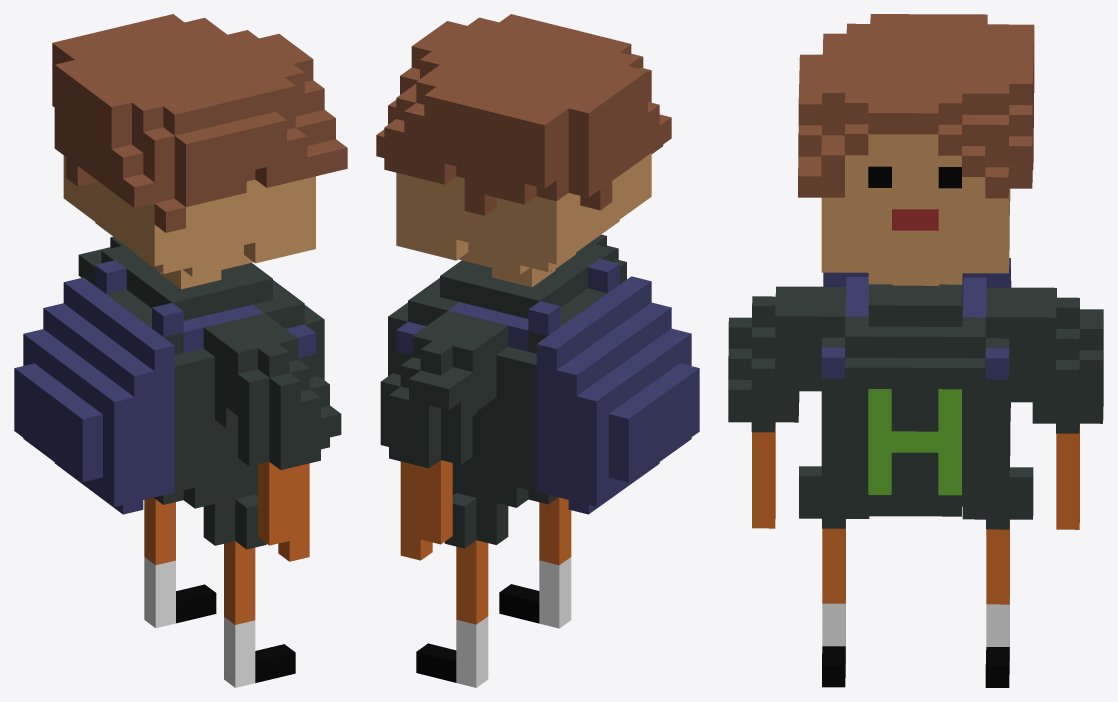
Rendered from Japan_Boy.glb.
The picture shows the model from 3 angles, left to right: view 1: azimuth 30°, elevation 25°; view 2: azimuth 150°, elevation 25°; view 3: azimuth 270°, elevation 25°; orthographic projection.
Visible parts, largest first — view 1: Mesh_4, Mesh_1, Mesh_5, Mesh_7, Mesh_3, Mesh_2, Mesh_6, Mesh_0; view 2: Mesh_5, Mesh_0, Mesh_7, Mesh_2, Mesh_1, Mesh_4, Mesh_6, Mesh_3; view 3: Mesh_5, Mesh_0, Mesh_1, Mesh_4, Mesh_7, Mesh_6.
Boxes of the visible parts, <box> form: Mesh_4: <box>152,64,347,377</box>; Mesh_1: <box>154,311,341,687</box>; Mesh_5: <box>73,14,313,328</box>; Mesh_7: <box>52,38,151,353</box>; Mesh_3: <box>71,354,174,514</box>; Mesh_2: <box>14,303,131,505</box>; Mesh_6: <box>111,97,185,371</box>; Mesh_0: <box>78,247,312,628</box>; Mesh_5: <box>376,21,607,375</box>; Mesh_0: <box>380,302,557,687</box>; Mesh_7: <box>524,61,647,369</box>; Mesh_2: <box>536,319,687,514</box>; Mesh_1: <box>499,245,626,628</box>; Mesh_4: <box>468,14,643,293</box>; Mesh_6: <box>608,52,671,318</box>; Mesh_3: <box>628,302,699,471</box>; Mesh_5: <box>868,33,1079,358</box>; Mesh_0: <box>868,309,1103,687</box>; Mesh_1: <box>728,317,869,687</box>; Mesh_4: <box>752,33,869,357</box>; Mesh_7: <box>870,14,1034,287</box>; Mesh_6: <box>823,23,870,286</box>.
Bounding box in the file's own units: 0.6036 × 1.4 × 0.802.
Materials: 1 (1 with a texture image).
